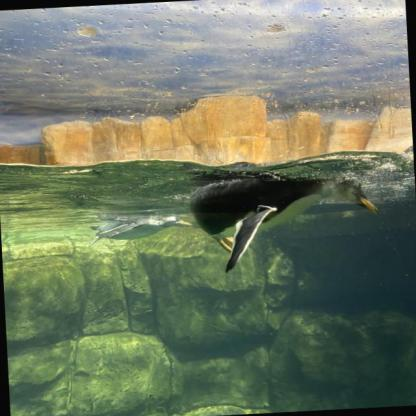penguin: (185, 159, 379, 251), (86, 212, 190, 244)
